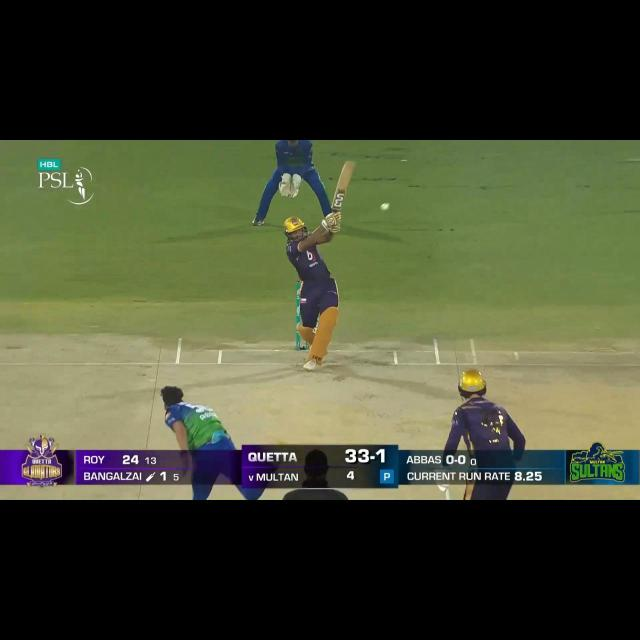bat: (330, 159, 357, 211)
toe: (344, 160, 357, 168)
